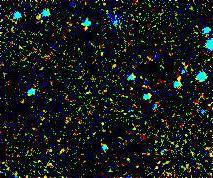star: (21, 2, 51, 32)
